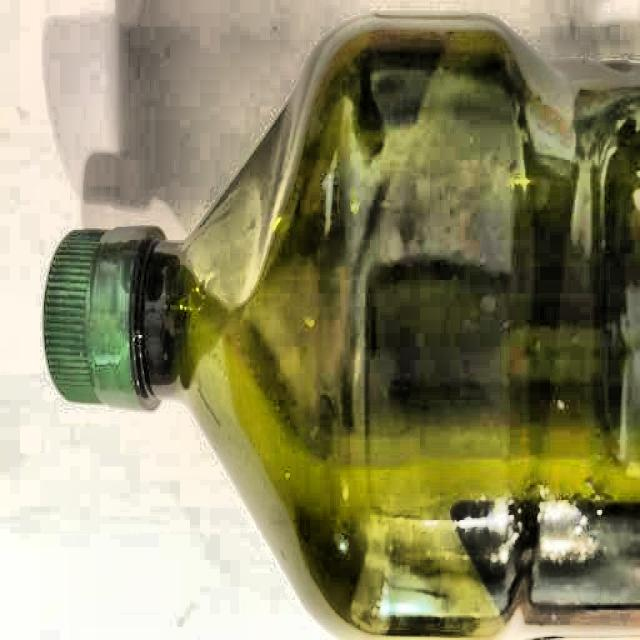plastic: (40, 13, 640, 640)
